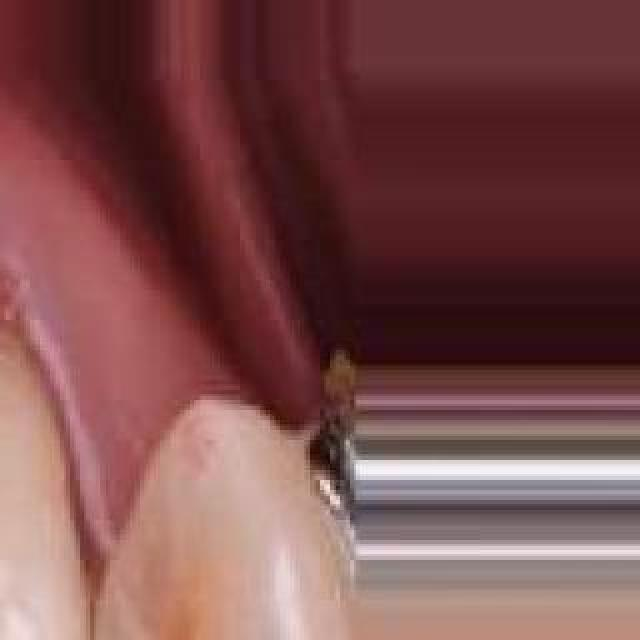cavities: (0, 170, 60, 622)
